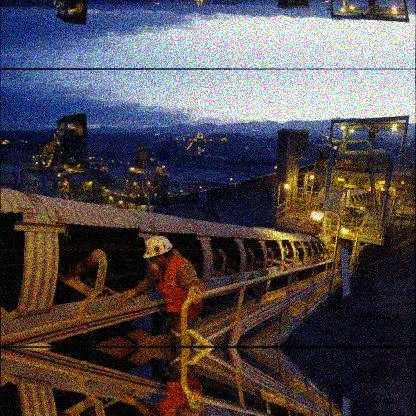helmet: (143, 234, 174, 269)
